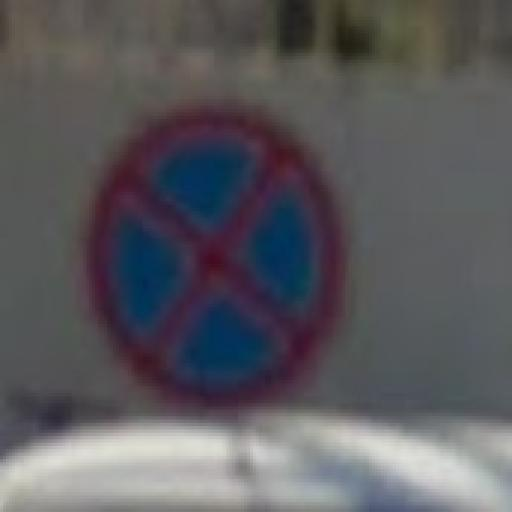traffic_sign: (85, 107, 350, 411)
